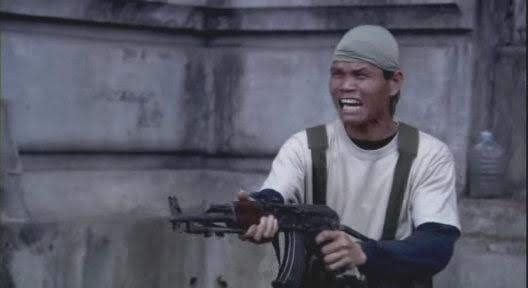gun: (155, 180, 365, 280)
